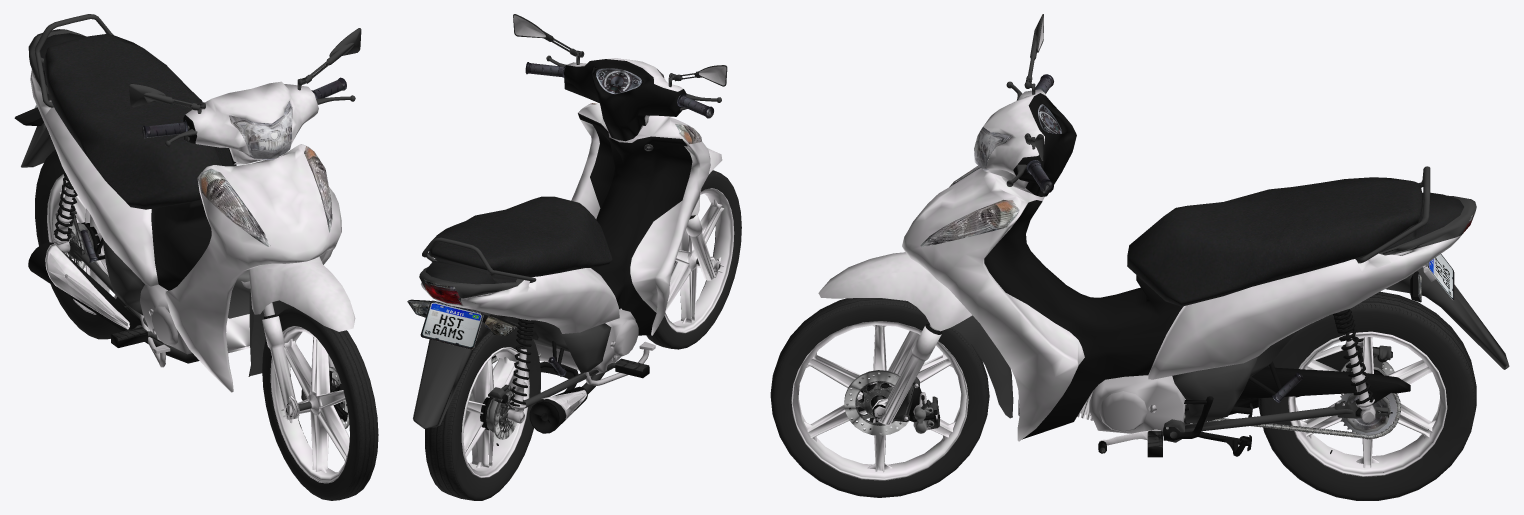
Rendered from HandoTwixOLD.fbx.
3 renders of one model, left to right at view 1: azimuth 30°, elevation 25°; view 2: azimuth 150°, elevation 25°; view 3: azimuth 270°, elevation 25°, orthographic. The views are drawn at different scales.
Visible parts, largest first — view 1: bodyMesh, handleMesh, frontWheelMesh, frontWheelMesh.001, rearWheelMesh, swingArmMesh, dirtGuardMesh, rearWheelMesh.001, tailSection; view 2: bodyMesh, handleMesh, rearWheelMesh, frontWheelMesh.001, rearWheelMesh.001, tailSection, frontWheelMesh, swingArmMesh, plateMesh, dirtGuardMesh, turnSignalRight; view 3: bodyMesh, rearWheelMesh, handleMesh, frontWheelMesh, swingArmMesh, frontWheelMesh.001, rearWheelMesh.001, dirtGuardMesh, tailSection.
Part boxes in pixels (bbox=[...]): bodyMesh: bbox=[28, 14, 341, 392]; handleMesh: bbox=[129, 28, 361, 376]; frontWheelMesh: bbox=[262, 306, 378, 500]; frontWheelMesh.001: bbox=[270, 326, 349, 483]; rearWheelMesh: bbox=[35, 150, 133, 339]; swingArmMesh: bbox=[53, 171, 147, 326]; dirtGuardMesh: bbox=[262, 314, 343, 420]; rearWheelMesh.001: bbox=[47, 174, 117, 314]; tailSection: bbox=[21, 122, 55, 167]; bodyMesh: bbox=[419, 103, 710, 433]; handleMesh: bbox=[513, 14, 727, 215]; rearWheelMesh: bbox=[425, 320, 540, 500]; frontWheelMesh.001: bbox=[664, 188, 734, 333]; rearWheelMesh.001: bbox=[461, 347, 529, 477]; tailSection: bbox=[413, 308, 508, 428]; frontWheelMesh: bbox=[646, 170, 741, 349]; swingArmMesh: bbox=[488, 318, 598, 426]; plateMesh: bbox=[420, 300, 483, 349]; dirtGuardMesh: bbox=[686, 215, 720, 280]; turnSignalRight: bbox=[482, 314, 518, 336]; bodyMesh: bbox=[902, 165, 1476, 457]; rearWheelMesh: bbox=[1258, 291, 1476, 500]; handleMesh: bbox=[818, 14, 1076, 418]; frontWheelMesh: bbox=[770, 298, 989, 497]; swingArmMesh: bbox=[1184, 309, 1410, 439]; frontWheelMesh.001: bbox=[791, 321, 968, 480]; rearWheelMesh.001: bbox=[1288, 331, 1447, 476]; dirtGuardMesh: bbox=[872, 323, 942, 433]; tailSection: bbox=[1386, 267, 1509, 369].
Bounding box in the file's own units: 0.7514 × 1.18 × 1.89.
